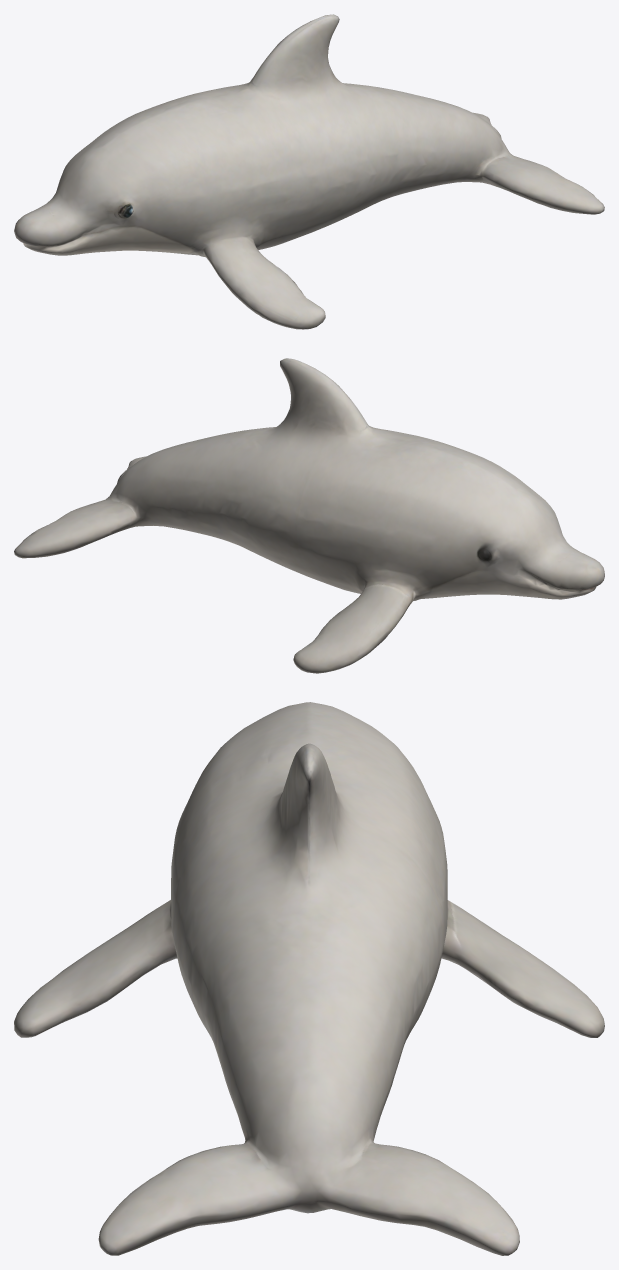
The model's file is dolphin.fbx.
3 renders of one model, top to bottom at view 1: azimuth 30°, elevation 25°; view 2: azimuth 150°, elevation 25°; view 3: azimuth 270°, elevation 25°, orthographic. The views are drawn at different scales.
Parts seen in each view (by area): view 1: Mesh1; view 2: Mesh1; view 3: Mesh1.
Part boxes in pixels (left/top/right/bottom): Mesh1: left=14, top=14, right=604, bottom=329; Mesh1: left=14, top=358, right=604, bottom=673; Mesh1: left=14, top=702, right=604, bottom=1255.
Size of the model in its own units: 200 by 80.73 by 120.
1 material, 1 textured.
